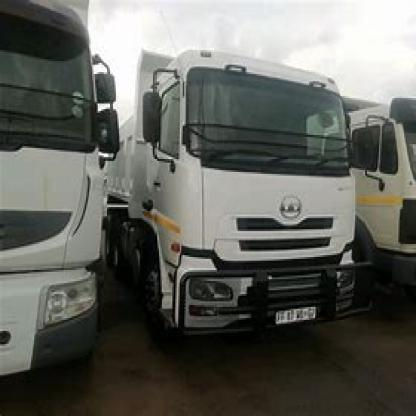dump_truck: (122, 31, 368, 338)
